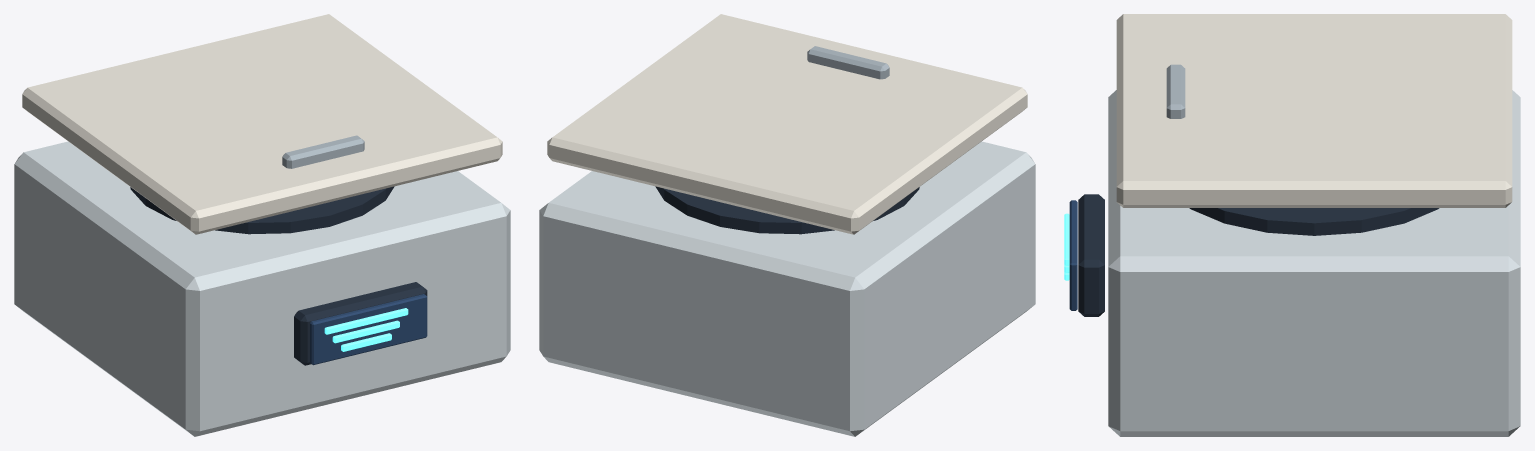
The model's file is lab_02.glb.
3 views of the same model, side by side, from view 1: azimuth 30°, elevation 25°; view 2: azimuth 150°, elevation 25°; view 3: azimuth 270°, elevation 25° (orthographic). The views are drawn at different scales.
Parts seen in each view (by area): view 1: InstrumentBody, Lid, Screen, RotorWell, MonitorFrame, Handle, DisplayLine (×2); view 2: InstrumentBody, Lid, RotorWell, Handle; view 3: InstrumentBody, Lid, RotorWell, MonitorFrame, Handle, Screen.
Part boxes in pixels (left/top/right/bottom): InstrumentBody: left=14, top=141, right=510, bottom=436; Lid: left=22, top=14, right=502, bottom=234; Screen: left=310, top=294, right=427, bottom=365; RotorWell: left=130, top=186, right=394, bottom=234; MonitorFrame: left=294, top=282, right=427, bottom=365; Handle: left=282, top=135, right=364, bottom=168; DisplayLine (×2): left=324, top=308, right=408, bottom=343; InstrumentBody: left=539, top=141, right=1035, bottom=436; Lid: left=547, top=14, right=1027, bottom=234; RotorWell: left=655, top=186, right=919, bottom=234; Handle: left=807, top=46, right=889, bottom=79; InstrumentBody: left=1108, top=90, right=1520, bottom=436; Lid: left=1116, top=14, right=1512, bottom=207; RotorWell: left=1189, top=208, right=1439, bottom=235; MonitorFrame: left=1078, top=194, right=1104, bottom=316; Handle: left=1166, top=64, right=1185, bottom=118; Screen: left=1069, top=200, right=1077, bottom=310.
Size of the model in its own units: 0.64 by 0.444 by 0.686.
